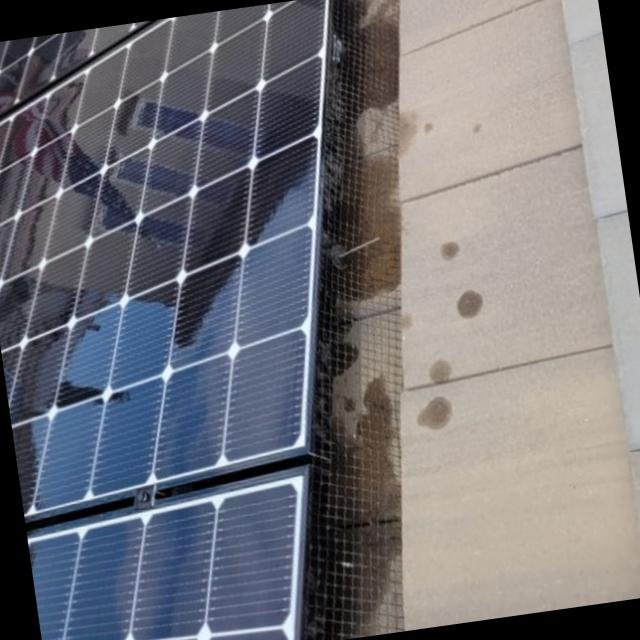no faulty: (0, 0, 337, 640)
